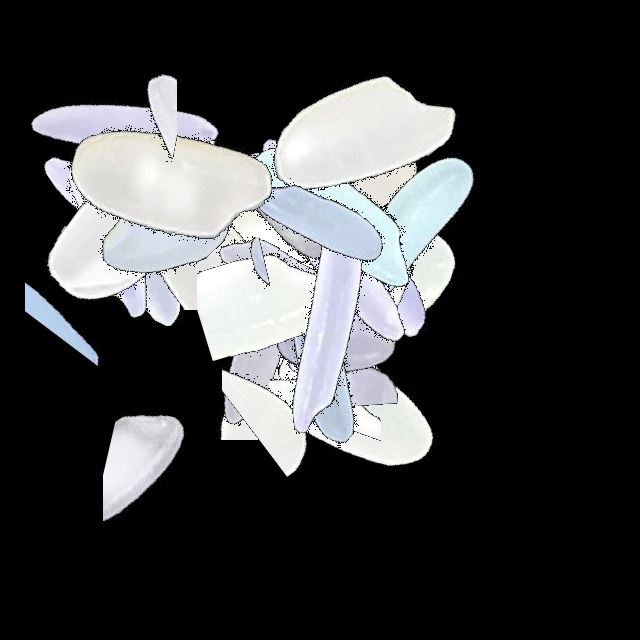Broken: (280, 311, 453, 561), (197, 171, 368, 421), (63, 72, 222, 322), (0, 186, 250, 343), (206, 103, 456, 256), (130, 297, 380, 440), (59, 167, 309, 310), (103, 358, 245, 608), (278, 116, 406, 366), (199, 212, 449, 339), (286, 130, 410, 380), (25, 156, 144, 406), (59, 5, 177, 255), (269, 236, 381, 486), (298, 225, 408, 475), (197, 174, 447, 279), (284, 221, 388, 471), (222, 250, 311, 500), (25, 53, 113, 303), (102, 237, 352, 317)
Full: (202, 144, 452, 394), (248, 111, 498, 361), (0, 97, 250, 347), (186, 150, 436, 400), (6, 115, 256, 365), (236, 178, 486, 428), (205, 121, 455, 371), (208, 161, 458, 411), (184, 111, 434, 361), (156, 177, 406, 427), (0, 121, 250, 371), (235, 129, 485, 379), (128, 236, 378, 486), (16, 86, 266, 336), (152, 122, 402, 372), (146, 100, 396, 350), (248, 95, 498, 345), (284, 108, 534, 358), (210, 211, 460, 461), (162, 155, 412, 405), (206, 134, 456, 384), (173, 80, 423, 330), (40, 107, 290, 357), (202, 91, 452, 341), (200, 247, 450, 497), (235, 10, 485, 260), (0, 4, 250, 254), (201, 197, 451, 447), (195, 97, 445, 347), (46, 53, 296, 303)
